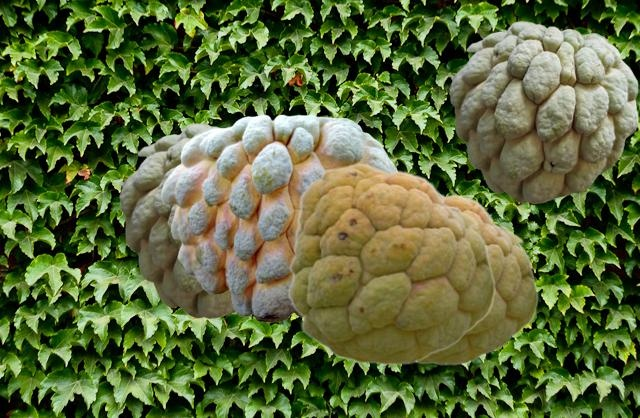atis: (161, 114, 396, 321), (287, 162, 494, 364), (449, 21, 637, 202), (119, 123, 234, 317), (417, 193, 537, 364)
